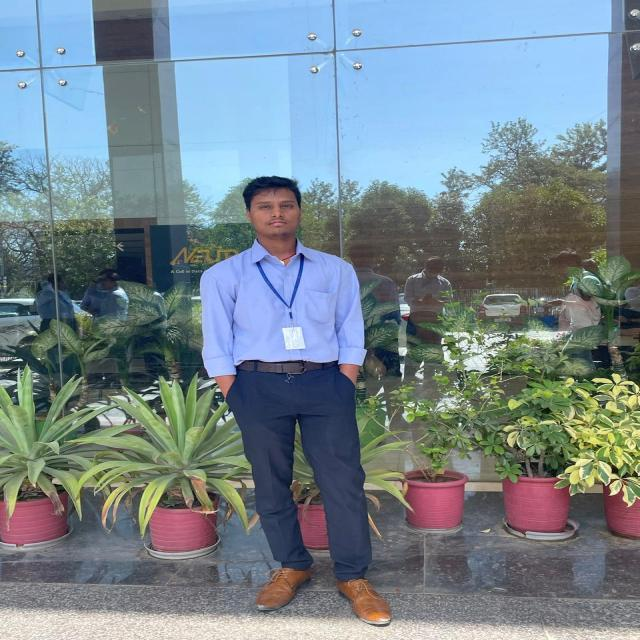uniform: (198, 237, 373, 580)
